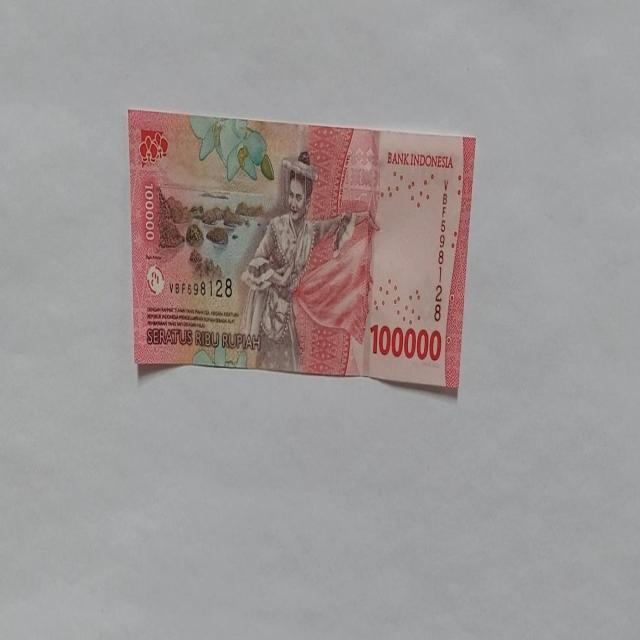Kertas: (369, 322, 442, 362)
